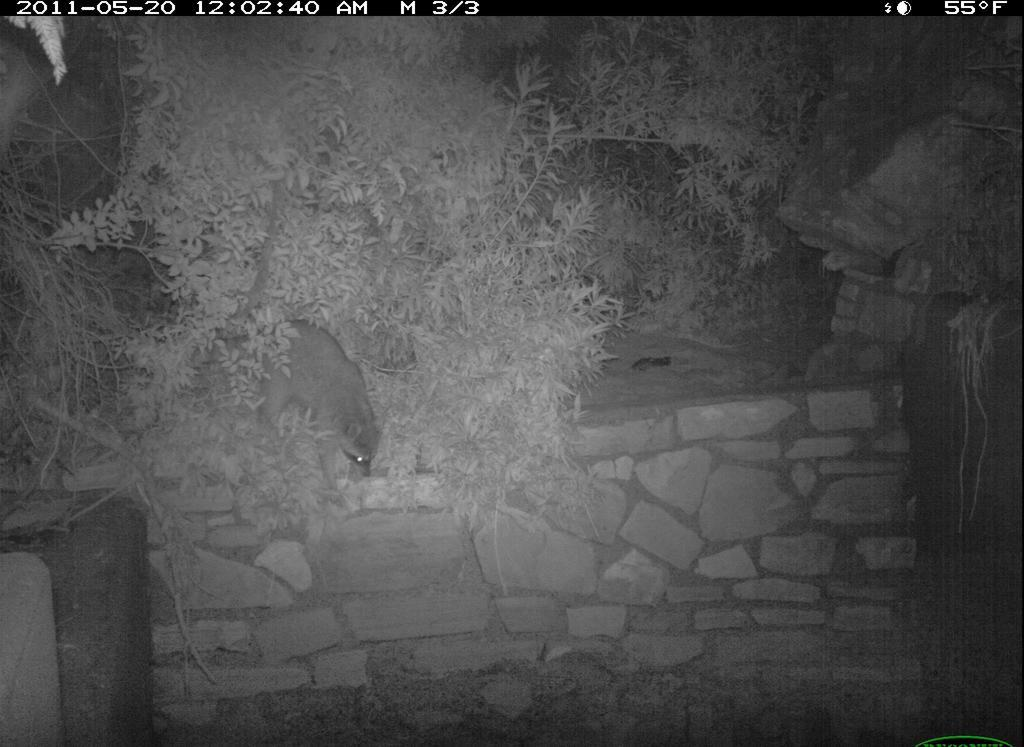raccoon: (208, 310, 406, 501)
